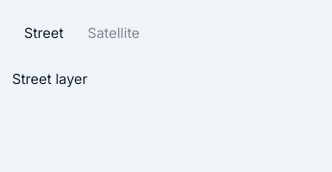
Test: Tabs › changes the selected panel on click and arrow navigation
Click the tab "Satellite": (114, 32) [76,12,152,52]
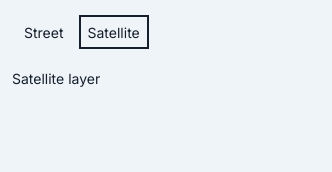
Expected: the panel reads "Satellite layer", [12,70,100,87]
Press Arrowleft
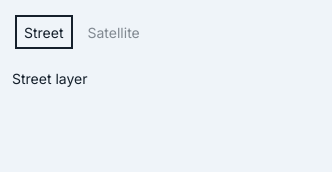
Expected: the panel reads "Street layer", [12,70,88,87]
